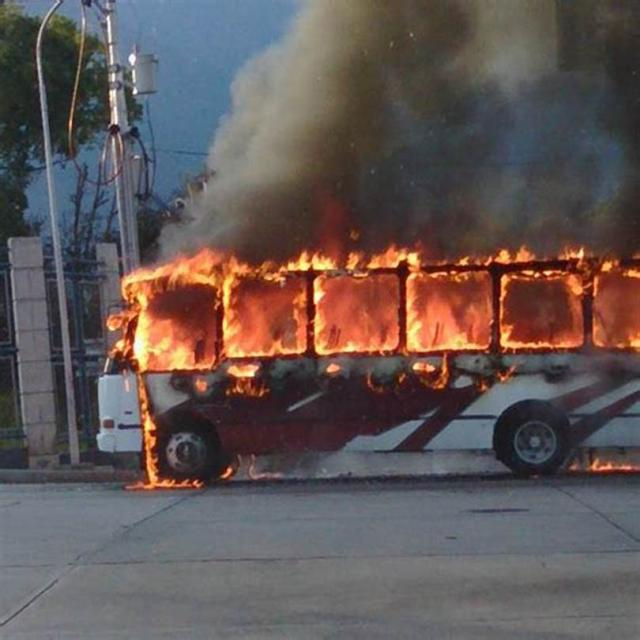fire: (124, 260, 639, 356), (138, 382, 164, 498)
